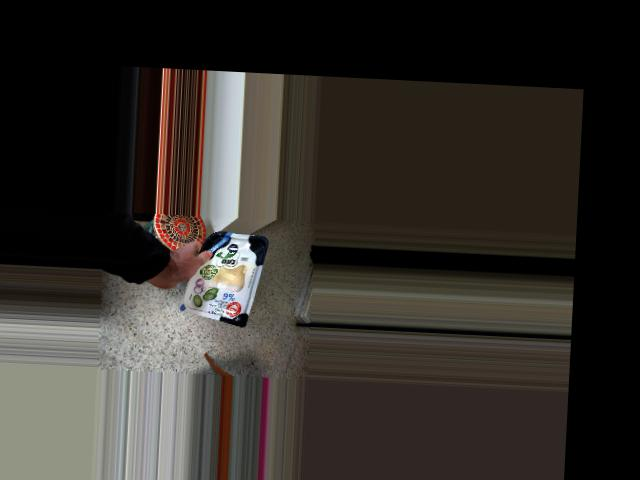cheese: (187, 224, 261, 329)
